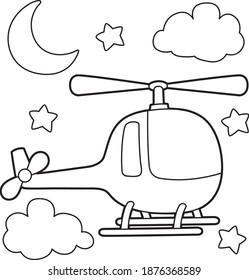cloud: (1, 197, 95, 259), (152, 1, 246, 62)
moon: (2, 1, 81, 75)
star: (27, 103, 57, 132), (94, 23, 126, 50), (220, 108, 249, 137), (217, 226, 246, 255)
